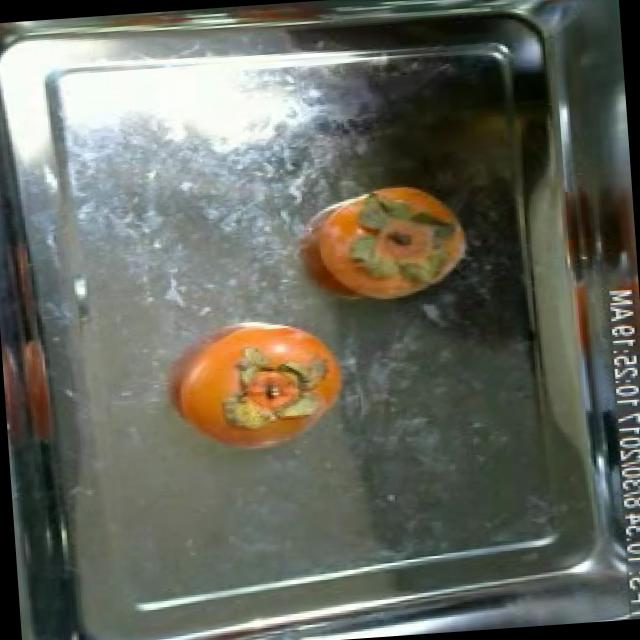Fruit: (216, 314, 359, 457), (350, 174, 477, 306)
